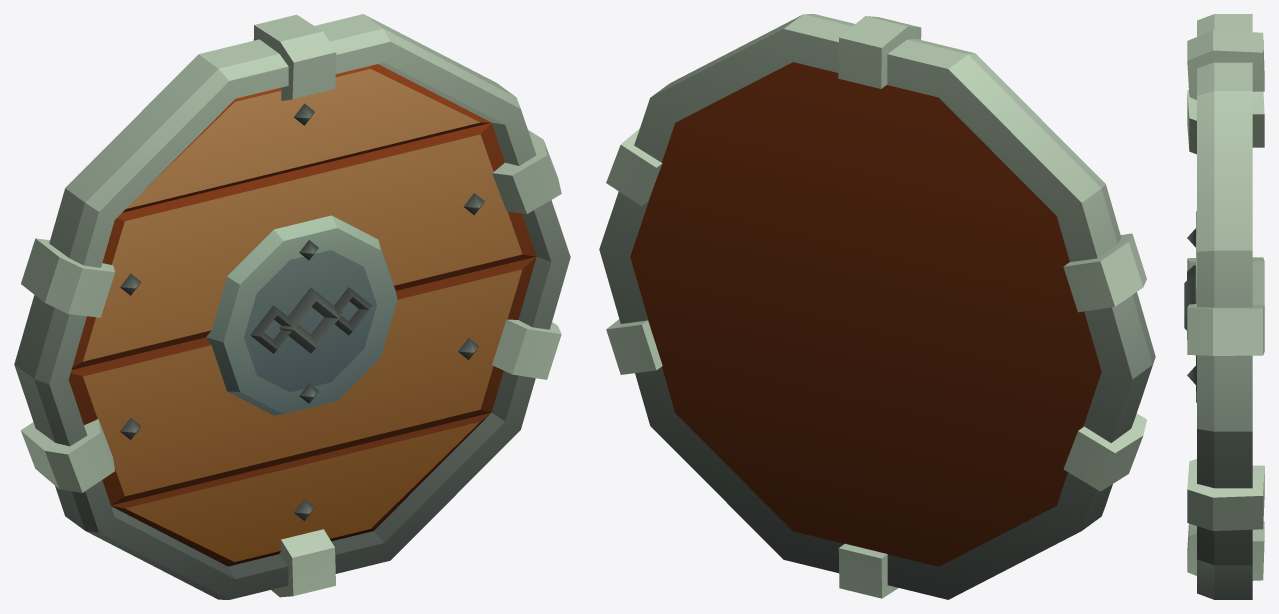
The model's file is shield_001.fbx.
The picture shows the model from 3 angles, left to right: view 1: azimuth 30°, elevation 25°; view 2: azimuth 150°, elevation 25°; view 3: azimuth 270°, elevation 25°; orthographic projection. The views are drawn at different scales.
Visible parts, largest first — view 1: shield.001; view 2: shield.001; view 3: shield.001.
Boxes of the visible parts, bbox=[...] form: shield.001: bbox=[14, 14, 570, 599]; shield.001: bbox=[599, 14, 1155, 599]; shield.001: bbox=[1184, 14, 1264, 599].
Bounding box in the file's own units: 82.06 × 81.64 × 11.13.
